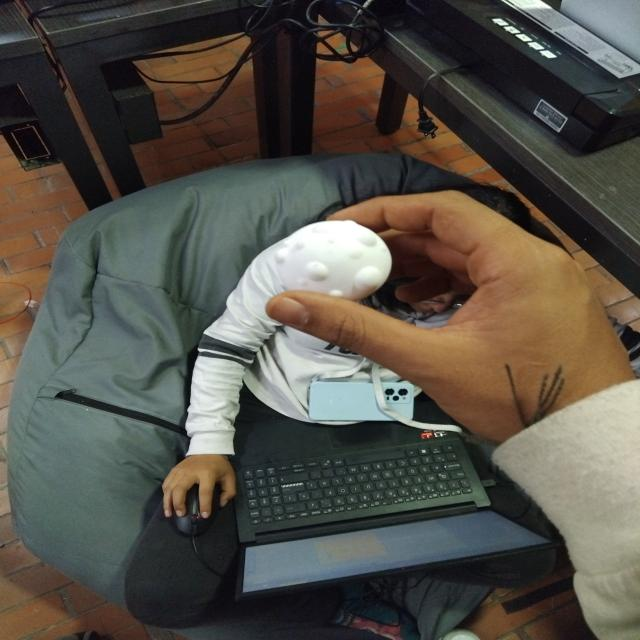Hongo: (257, 208, 403, 304)
